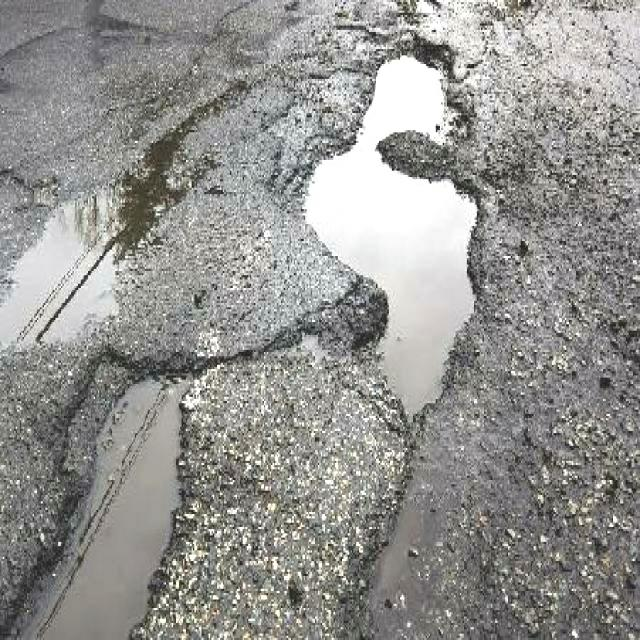Pothole: (294, 28, 487, 427), (0, 341, 217, 638)
